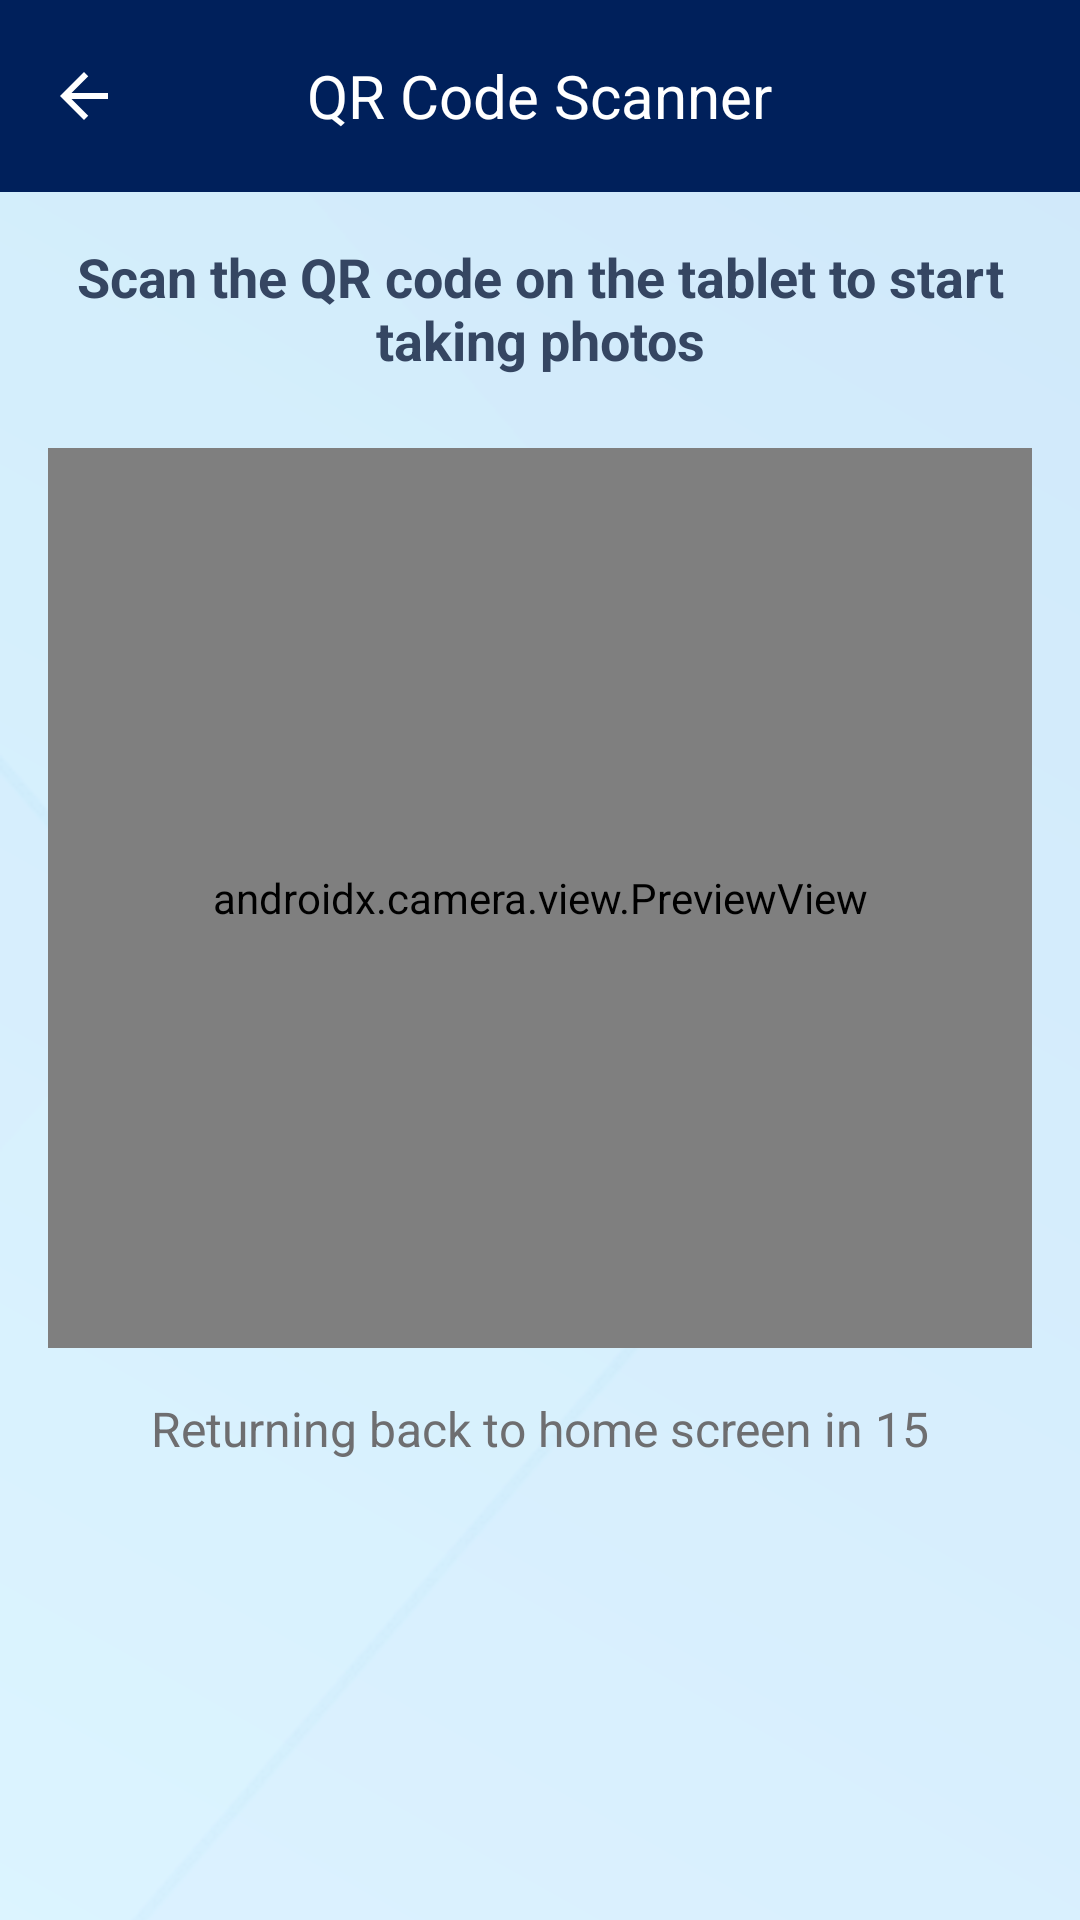

Icon click points for this 1080 × 1920 phone screenshot, format point (x, y):
arrow back: point (84, 96)
